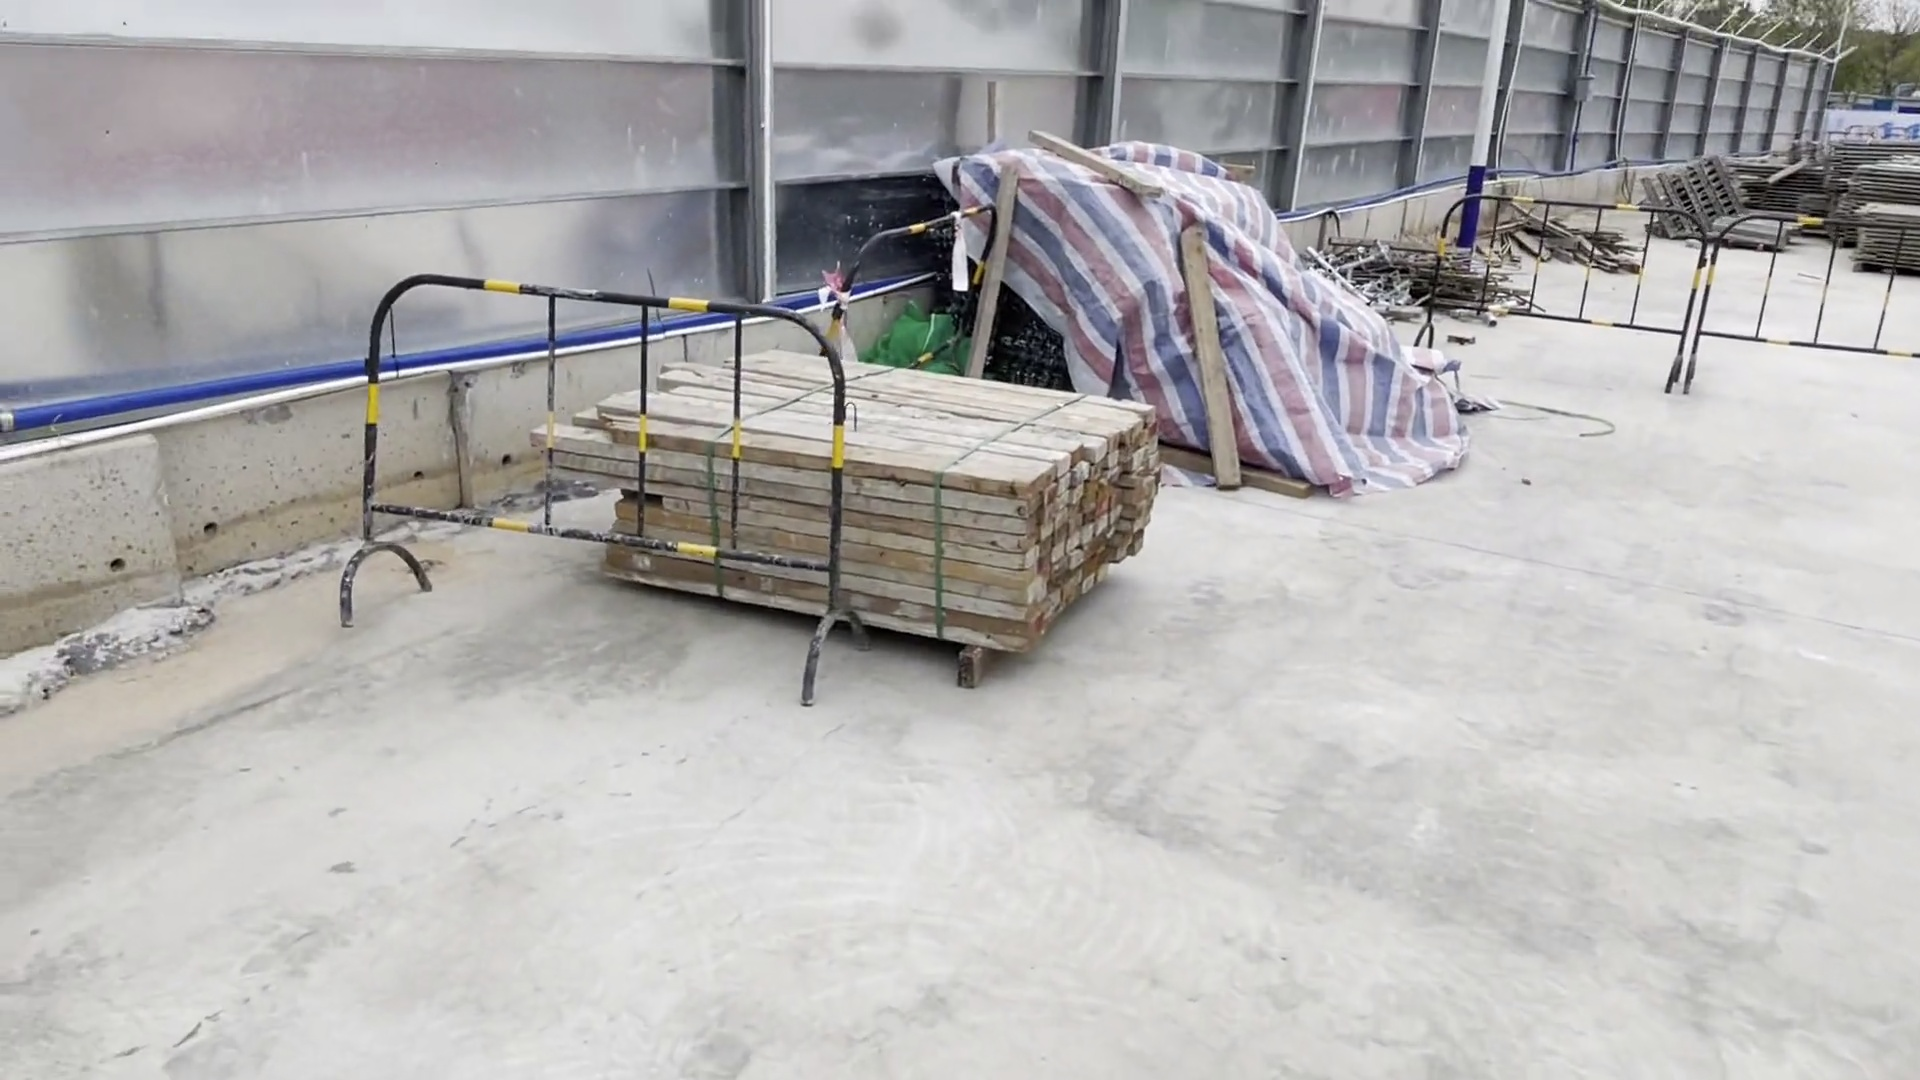fence: (335, 266, 877, 716), (1400, 191, 1920, 394)
wood: (526, 349, 1164, 650)
